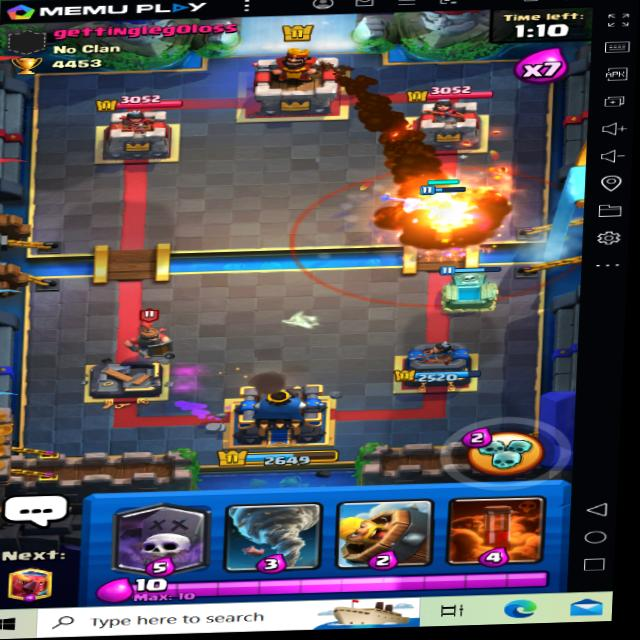Royalrecruits: (123, 307, 182, 363)
Tornado: (295, 156, 590, 315)
